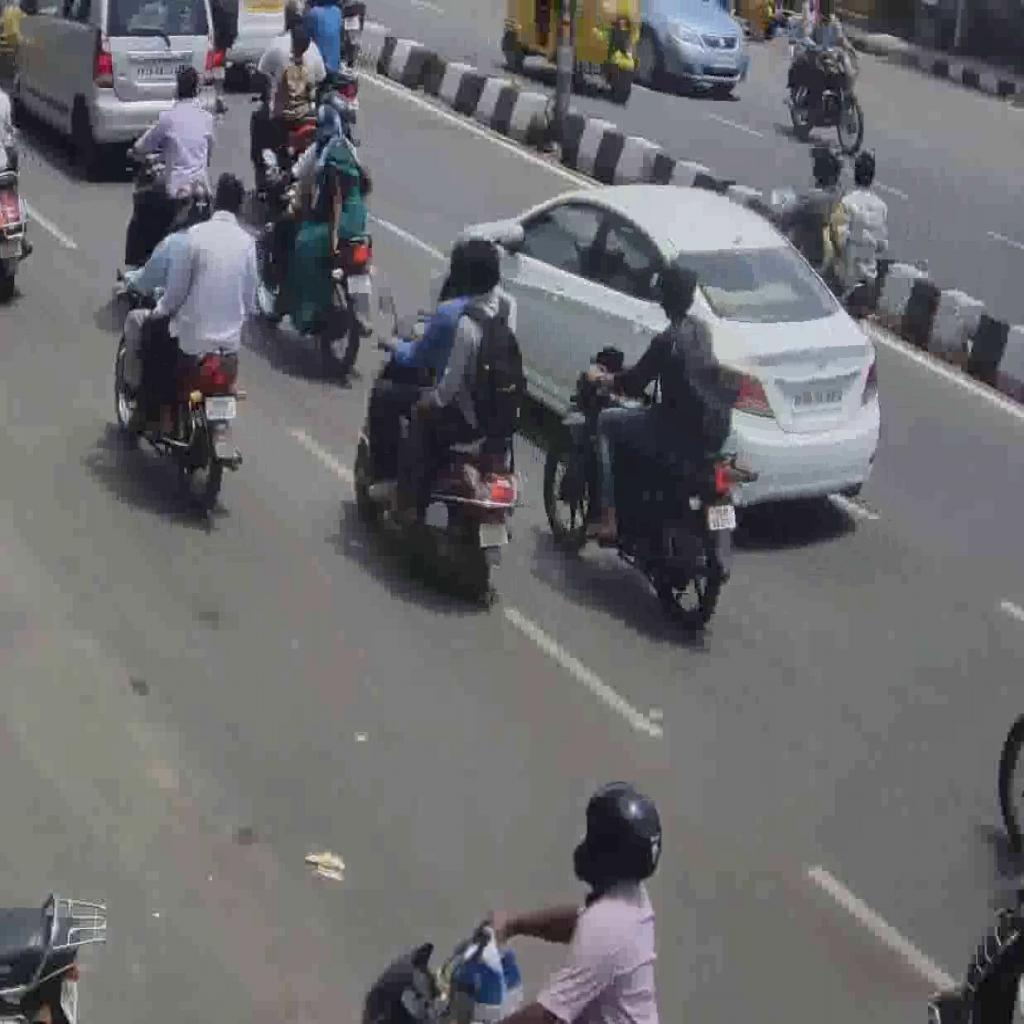bike: (543, 346, 744, 628), (353, 306, 522, 598), (113, 254, 243, 511), (254, 143, 374, 371)
helmet: (648, 260, 699, 327), (171, 175, 212, 233)
lisc: (204, 395, 236, 419), (707, 504, 736, 530), (480, 521, 508, 547), (347, 274, 371, 294)
no_helmet: (463, 232, 502, 298), (212, 169, 246, 221), (446, 238, 473, 300), (314, 104, 341, 145)
noise: (783, 1, 866, 154)
rider: (378, 233, 518, 532), (582, 262, 715, 542), (146, 170, 258, 434), (366, 238, 473, 509), (116, 175, 213, 407), (282, 104, 366, 327)
